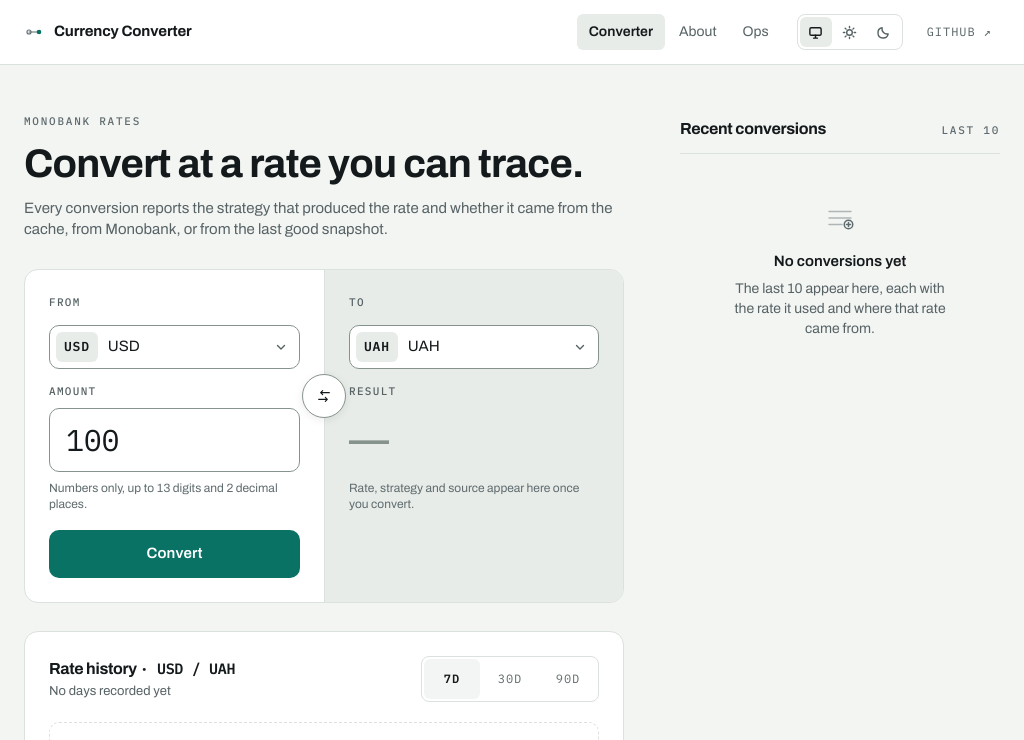
Test: App › shows the converter at the root and navigates to the about page
Expected: the heading "Convert at a rate you can trace." is shown, [24,142,624,186]
Expected: the navigation bar named "Main" is shown, [577,14,781,50]
Click the link "About": click(698, 32) [679,24,716,39]
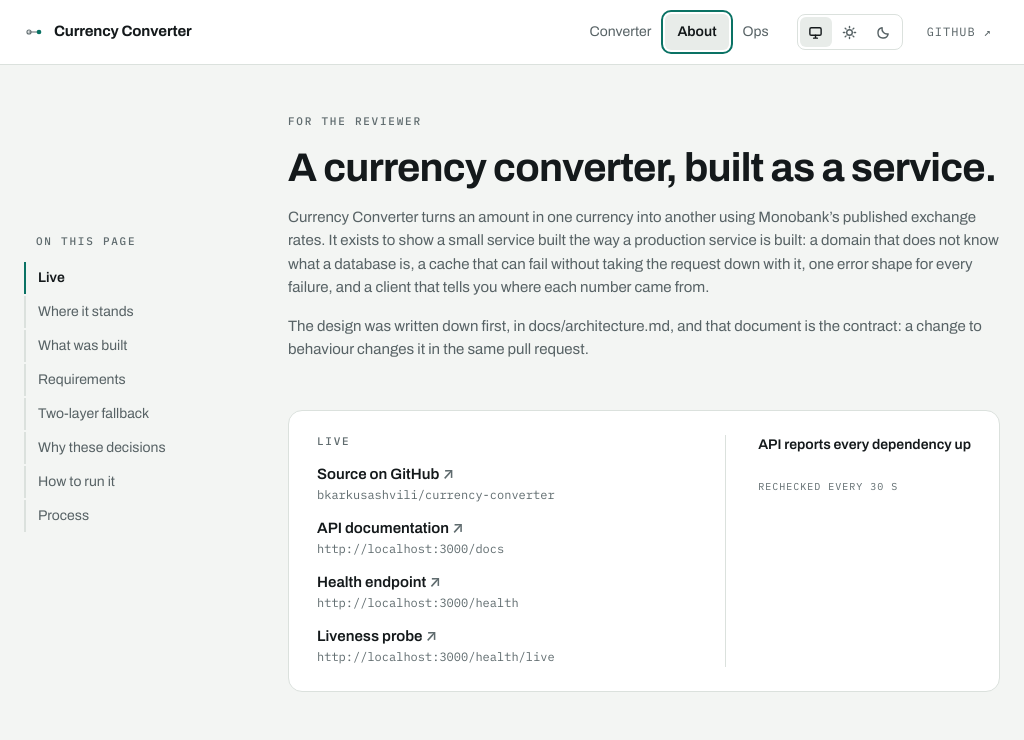
Expected: the heading "A currency converter, built as a service." is shown, [288,146,1000,190]
